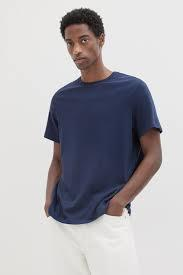tshirt: (42, 70, 165, 225)
